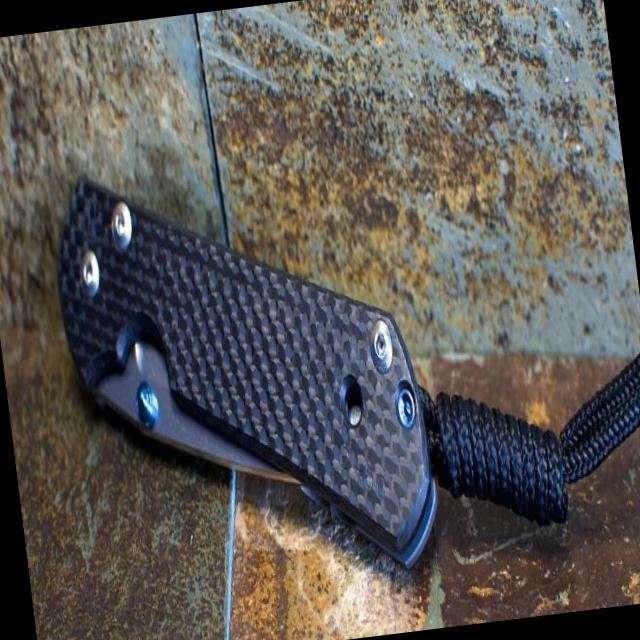Knife: (58, 181, 640, 566)
